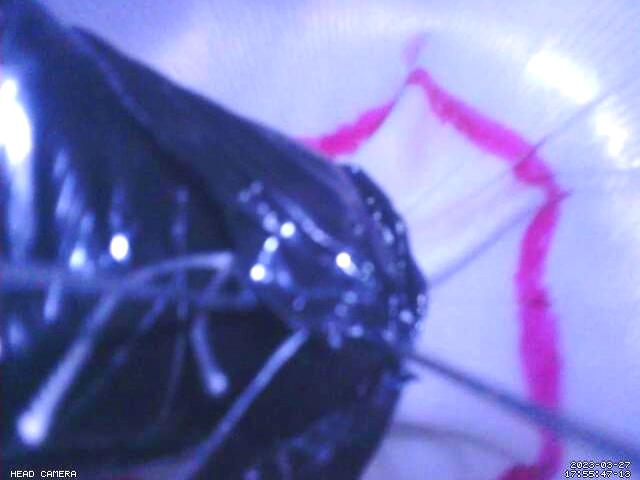red-circle: (290, 67, 567, 480)
